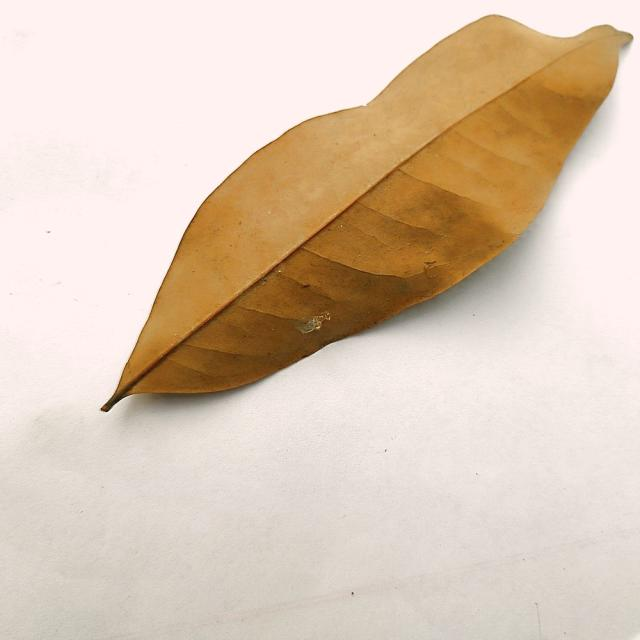Dry_Leaf-Lychee: (104, 14, 633, 412)
